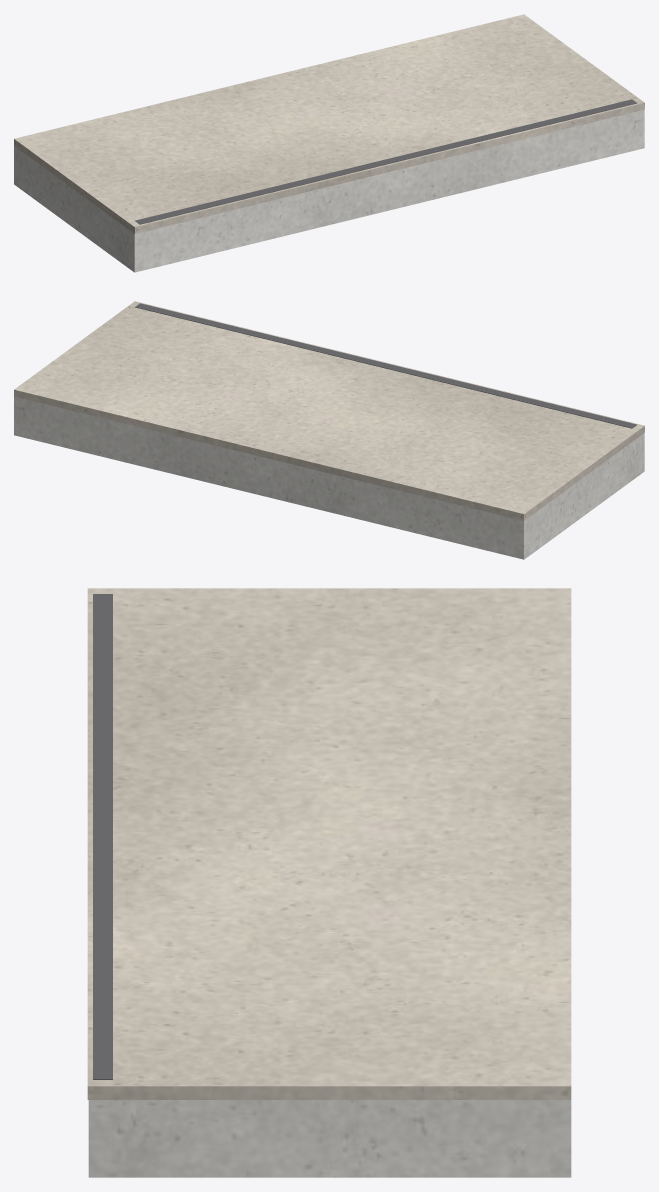
File: landing.glb
3 renders of one model, top to bottom at view 1: azimuth 30°, elevation 25°; view 2: azimuth 150°, elevation 25°; view 3: azimuth 270°, elevation 25°, orthographic. The views are drawn at different scales.
Visible parts, largest first — view 1: landing_terrazzo, landing_plaster, landing_dark; view 2: landing_terrazzo, landing_plaster, landing_dark; view 3: landing_terrazzo, landing_plaster, landing_dark.
Part boxes in pixels (x1,y1,x2,y2): landing_terrazzo: (14,14,644,233); landing_plaster: (14,109,644,272); landing_dark: (135,99,636,224); landing_terrazzo: (14,301,644,520); landing_plaster: (14,396,644,559); landing_dark: (135,303,636,428); landing_terrazzo: (87,588,571,1099); landing_plaster: (88,1100,571,1177); landing_dark: (93,594,112,1079).
Size of the model in its own units: 2.34 by 0.202 by 0.96.
Materials: 3 (2 with a texture image).
